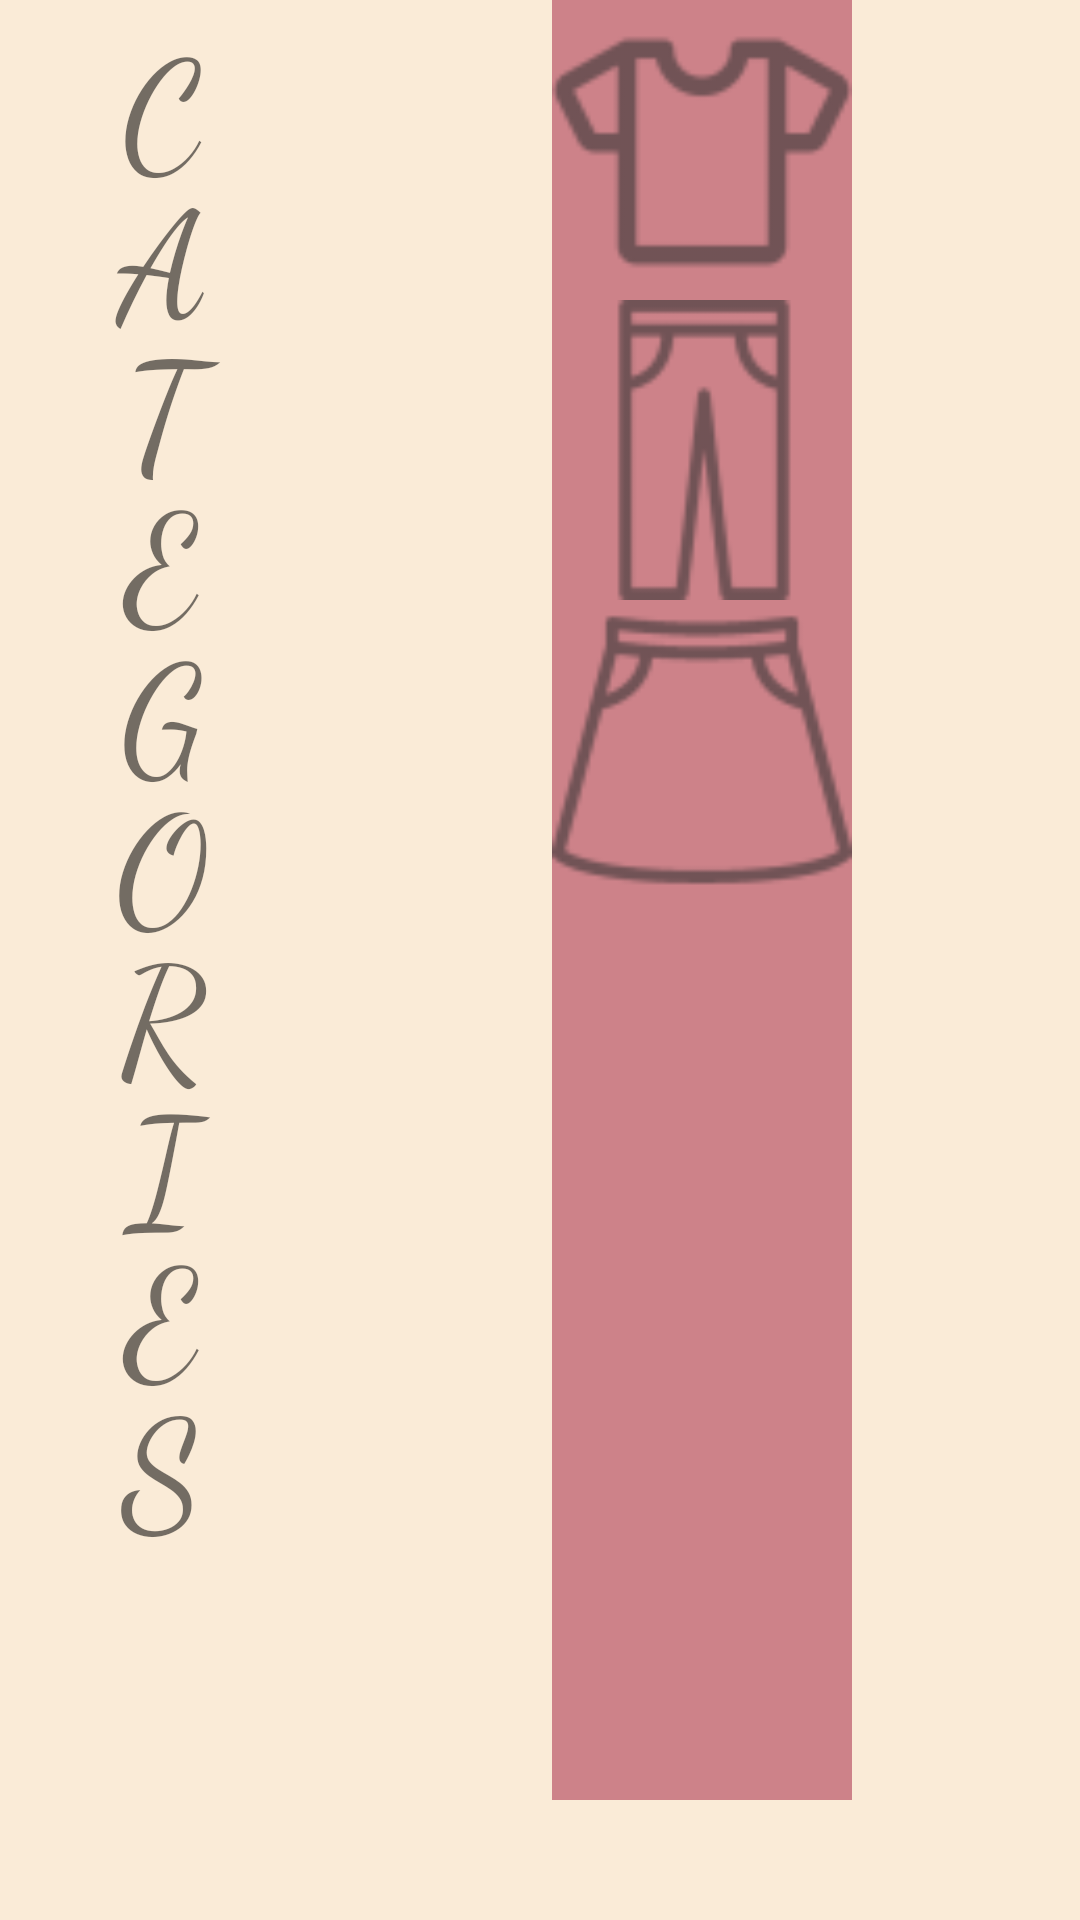

Point at icon controls on the screen. Image size 1080px×1920px, points as (x,y).
pants: (702,450)
skirts: (702,750)
tops: (702,150)
